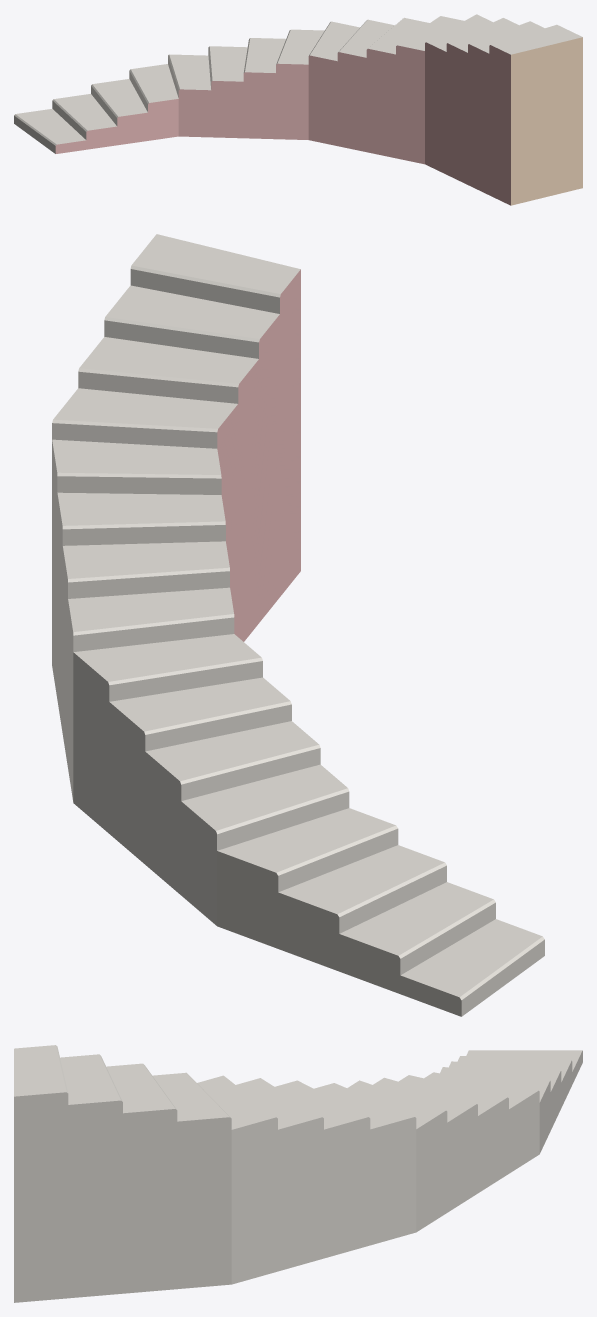
File: Tiered_Walkway_Steps_Curve_Tall_5x5.glb
The picture shows the model from 3 angles, top to bottom: view 1: azimuth 30°, elevation 25°; view 2: azimuth 150°, elevation 25°; view 3: azimuth 270°, elevation 25°; orthographic projection. The views are drawn at different scales.
Visible parts, largest first — view 1: Tiered_Walkway_Steps_Curve_Tall_5x5; view 2: Tiered_Walkway_Steps_Curve_Tall_5x5; view 3: Tiered_Walkway_Steps_Curve_Tall_5x5.
Boxes of the visible parts, bbox=[...] form: Tiered_Walkway_Steps_Curve_Tall_5x5: bbox=[14, 14, 582, 205]; Tiered_Walkway_Steps_Curve_Tall_5x5: bbox=[52, 234, 544, 1016]; Tiered_Walkway_Steps_Curve_Tall_5x5: bbox=[14, 1045, 582, 1302].
Bounding box in the file's own units: 500 × 200 × 500.
